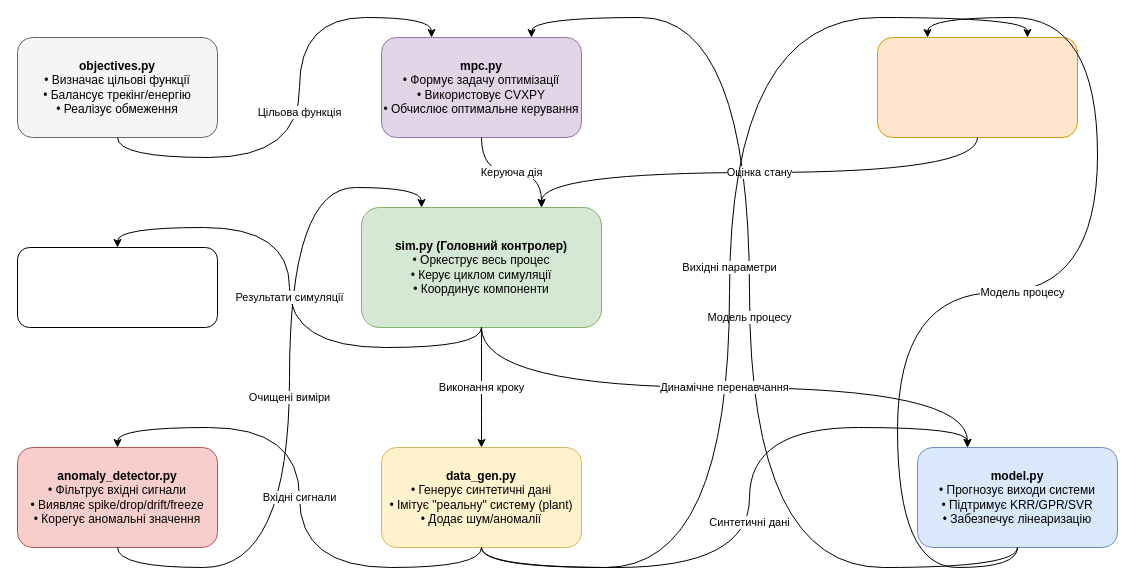
Image size: 1135x585. Some labels were removed from this diagram. The centre of each missing label's shape, as x and y in pixels:
"ekf.py • Оцінює стан системи • Компенсує збурення • Адаптує параметри онлайн" belongs at point 977,87.
"utils.py • Візуалізує результати • Аналізує помилки • Оцінює продуктивність" belongs at point 117,287.
